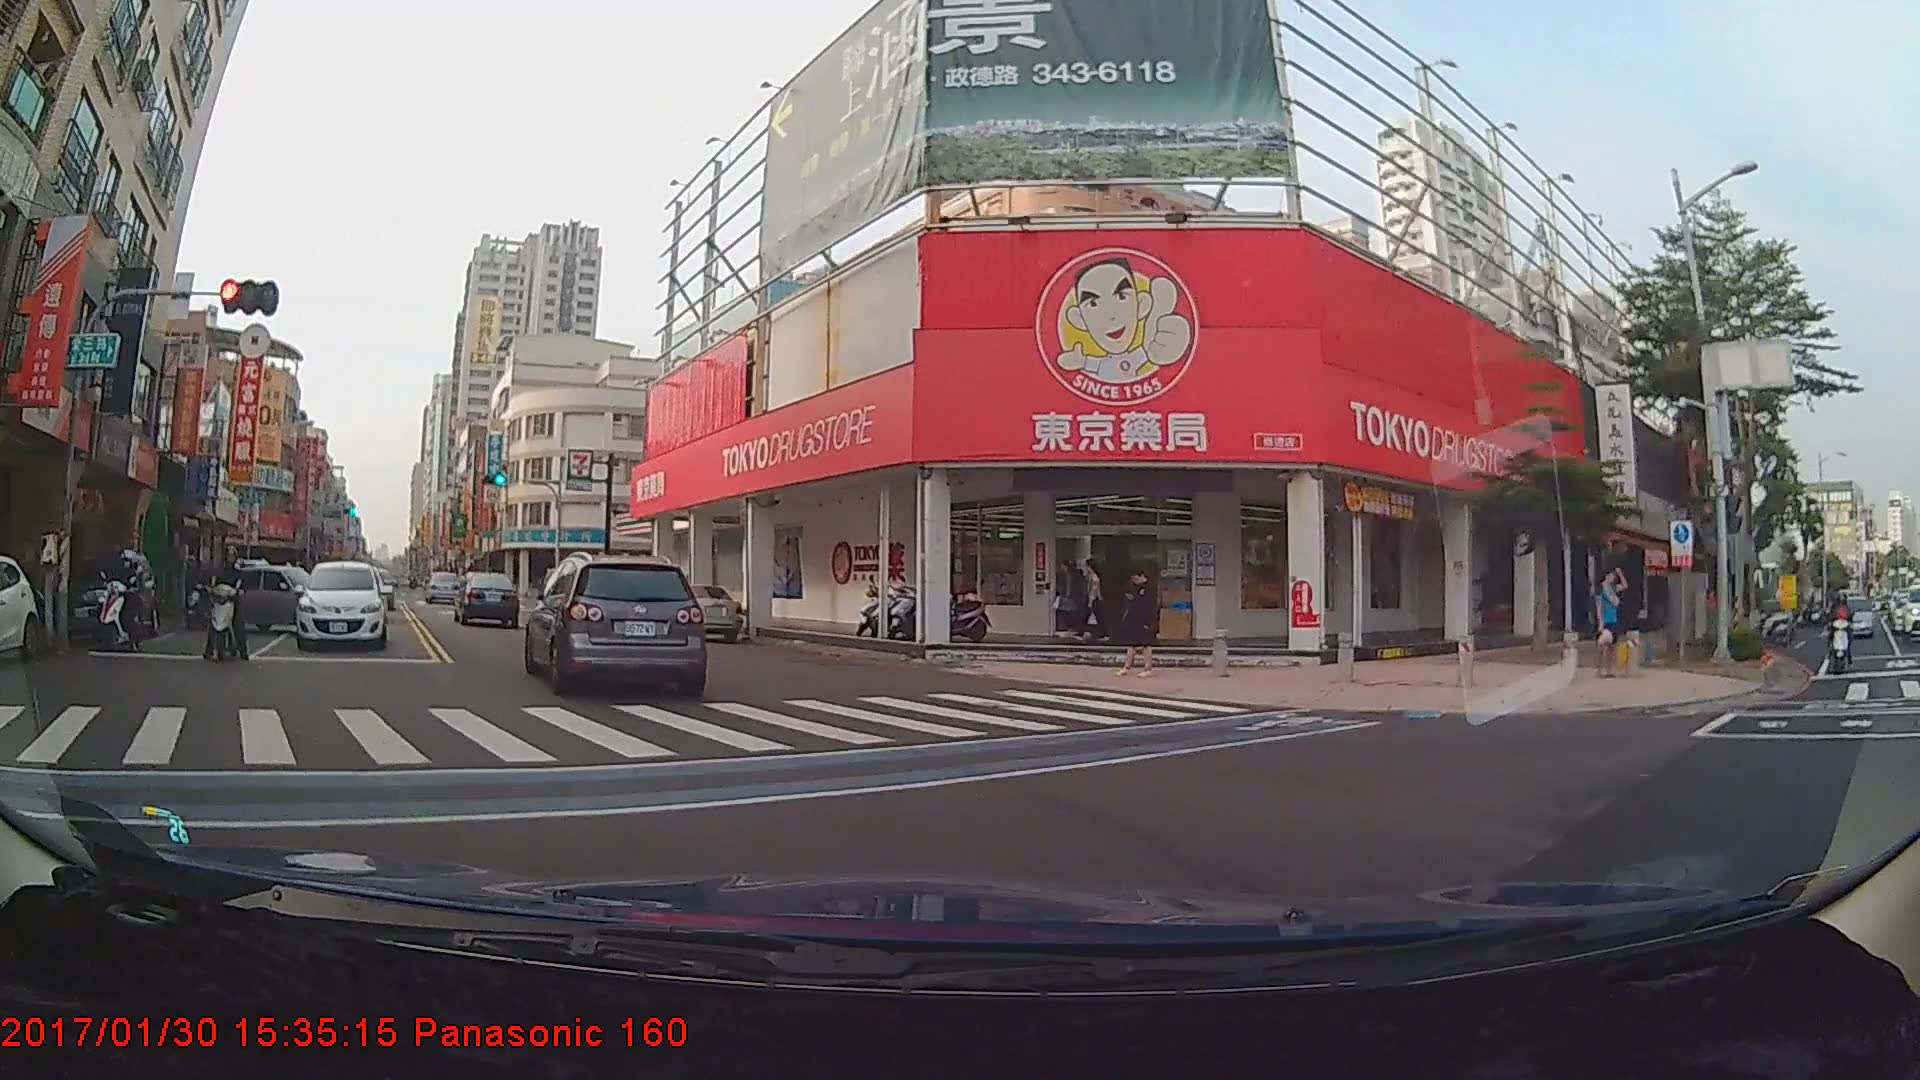pedestrian: (1119, 563, 1163, 679), (1591, 563, 1634, 678), (1054, 556, 1091, 639), (1081, 555, 1109, 642)
rider: (89, 548, 158, 656), (196, 540, 253, 657), (1821, 593, 1859, 672)
vehicle: (527, 555, 705, 695), (39, 542, 159, 640), (293, 559, 387, 649), (220, 563, 332, 631), (643, 580, 742, 641), (455, 573, 519, 627), (1832, 592, 1875, 636)
